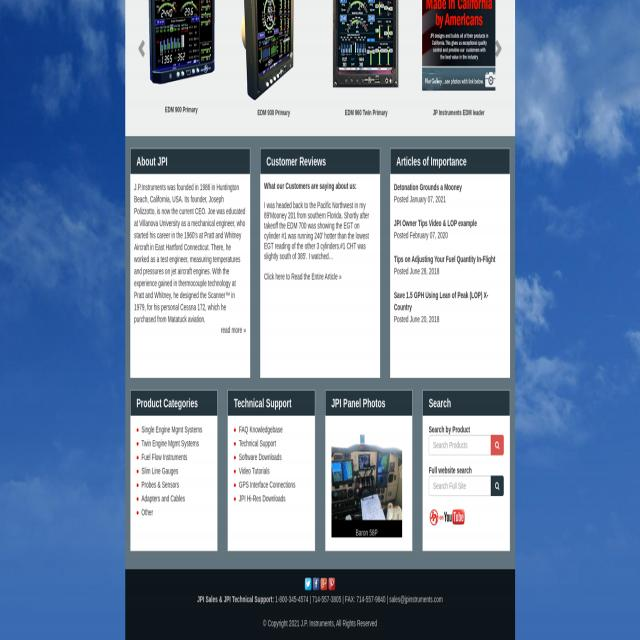button: (317, 0, 409, 124), (414, 0, 504, 124), (230, 0, 309, 127), (144, 0, 220, 123), (332, 424, 402, 536), (428, 508, 466, 526), (493, 32, 505, 67), (137, 31, 147, 68), (491, 475, 504, 496), (491, 435, 504, 455), (305, 577, 311, 590), (313, 577, 319, 590), (321, 577, 327, 590), (329, 577, 335, 590)
field: (429, 475, 491, 496), (429, 435, 491, 455)
